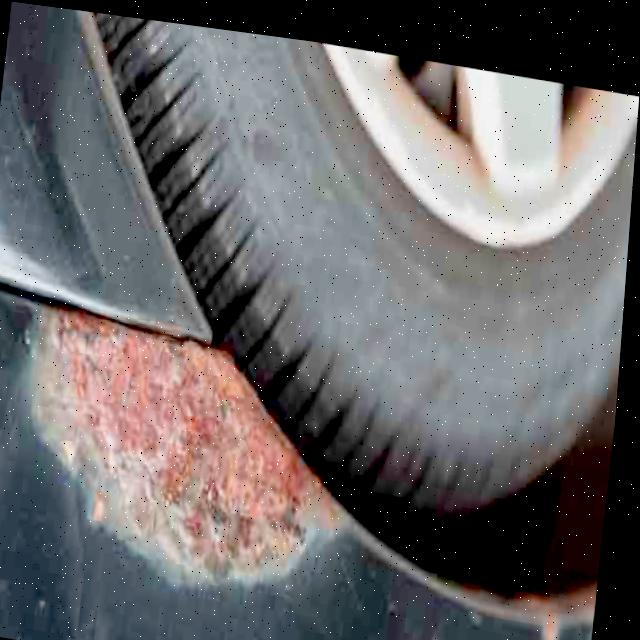corrosion: (16, 302, 353, 593)
